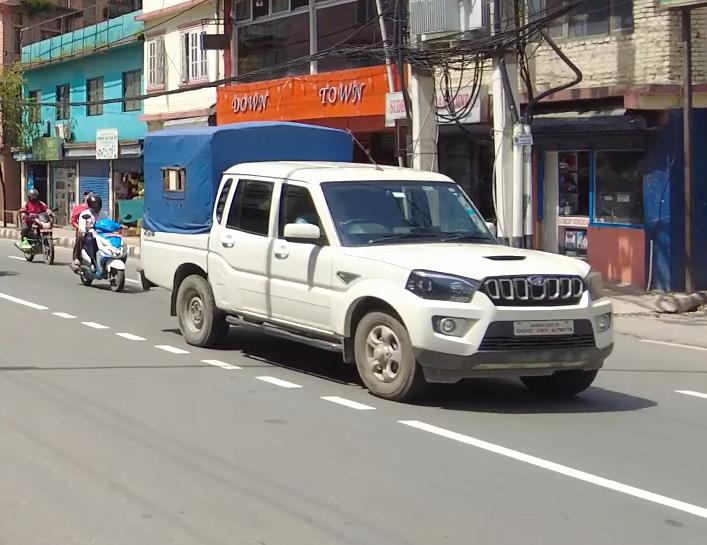bike: (12, 183, 62, 274)
scooter: (74, 203, 133, 299)
transport_vehicle: (126, 118, 635, 424)
